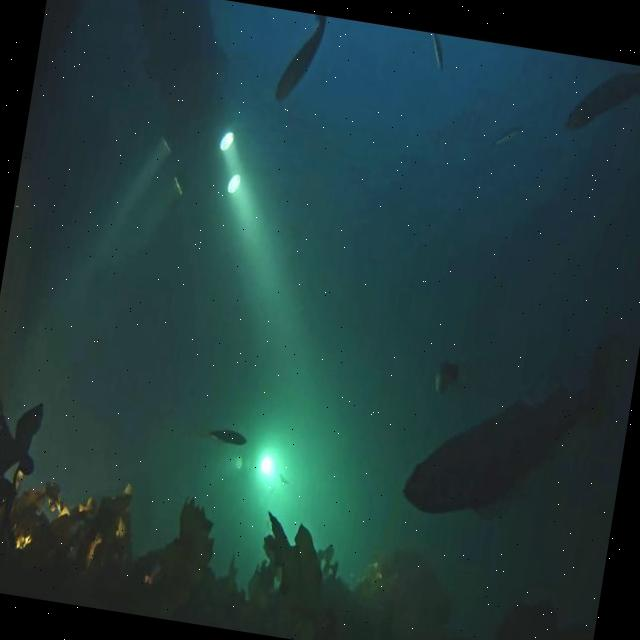fish: (400, 363, 598, 537), (562, 54, 640, 151), (278, 14, 328, 103), (432, 356, 468, 398), (492, 118, 526, 152), (206, 426, 250, 448), (428, 36, 448, 72)
